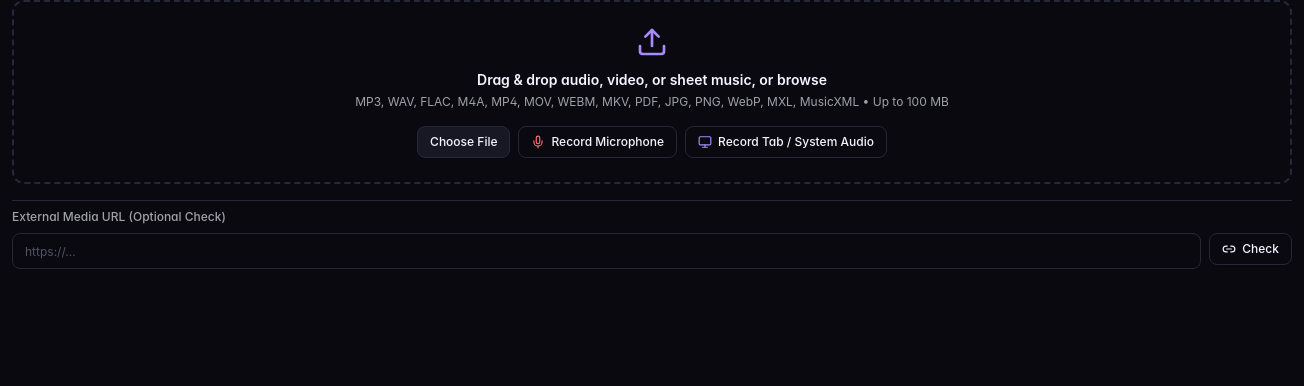
Browser Tab / System Audio Recording › handles empty recordings and MediaRecorder encoding errors gracefully
What coordinates should you click on to do the following:
click the button "Record Tab / System Audio"
I would click on:
 (786, 142)
Its box is x1=685 y1=126 x2=887 y2=158.
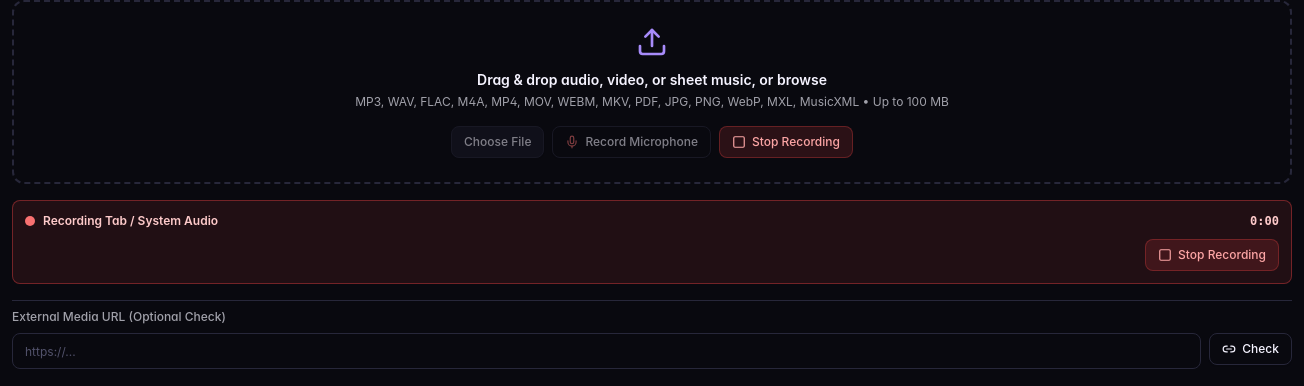
What coordinates should you click on to do the following:
click the 1st button "Stop Recording"
I would click on:
 (786, 142)
Its box is x1=719 y1=126 x2=853 y2=158.
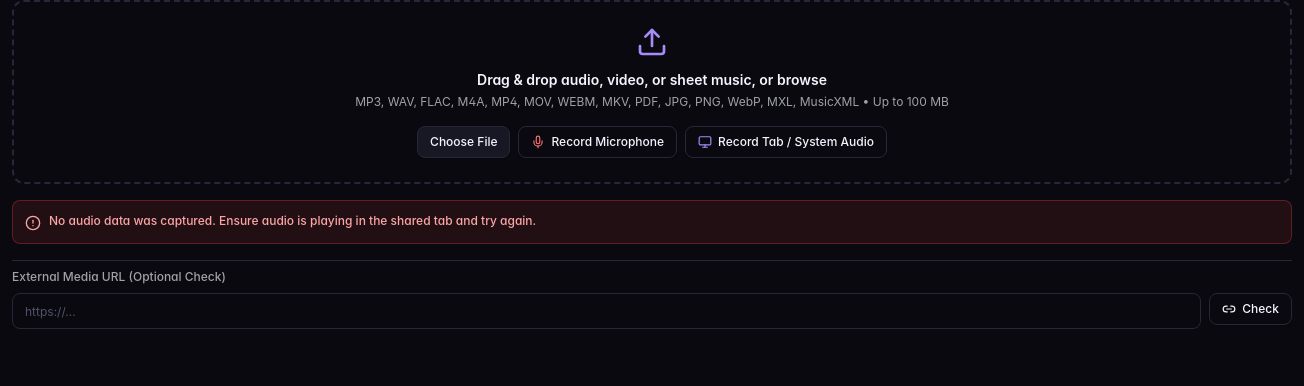
Expected: the message shows "No audio data was captured", x1=49 y1=213 x2=536 y2=228
# MediaRecorder error
What coordinates should you click on to do the following:
click the button "Record Tab / System Audio"
I would click on:
 (786, 142)
Its box is x1=685 y1=126 x2=887 y2=158.
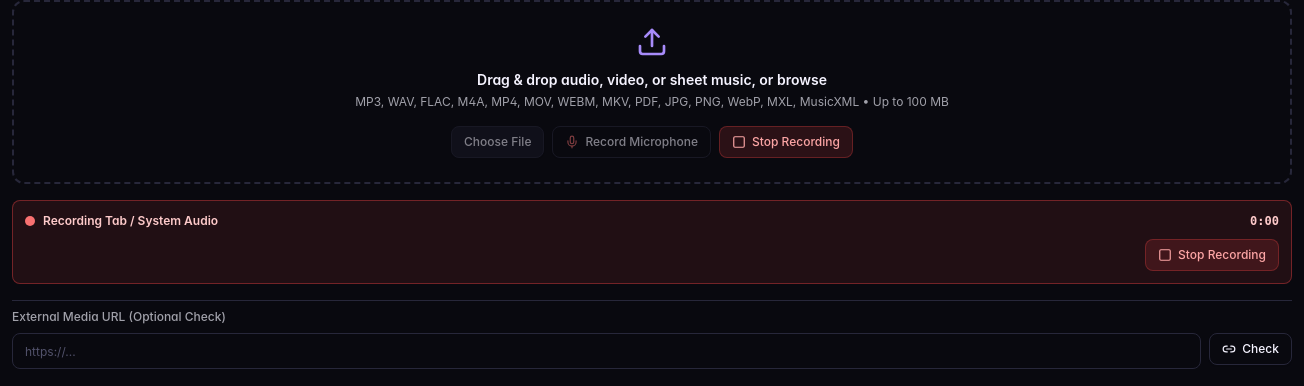
What coordinates should you click on to do the following:
click the 1st button "Stop Recording"
I would click on:
 (786, 142)
Its box is x1=719 y1=126 x2=853 y2=158.
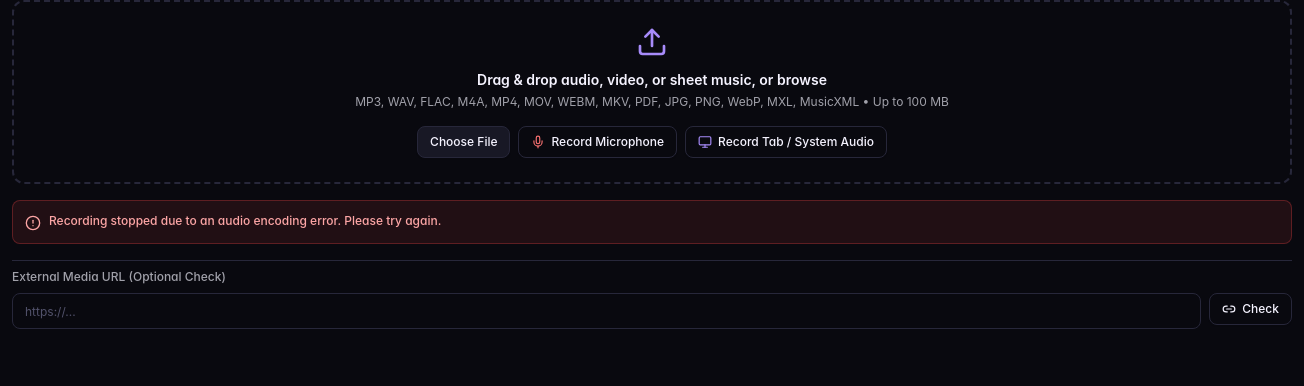
Expected: the message shows "audio encoding error", x1=49 y1=213 x2=441 y2=228
